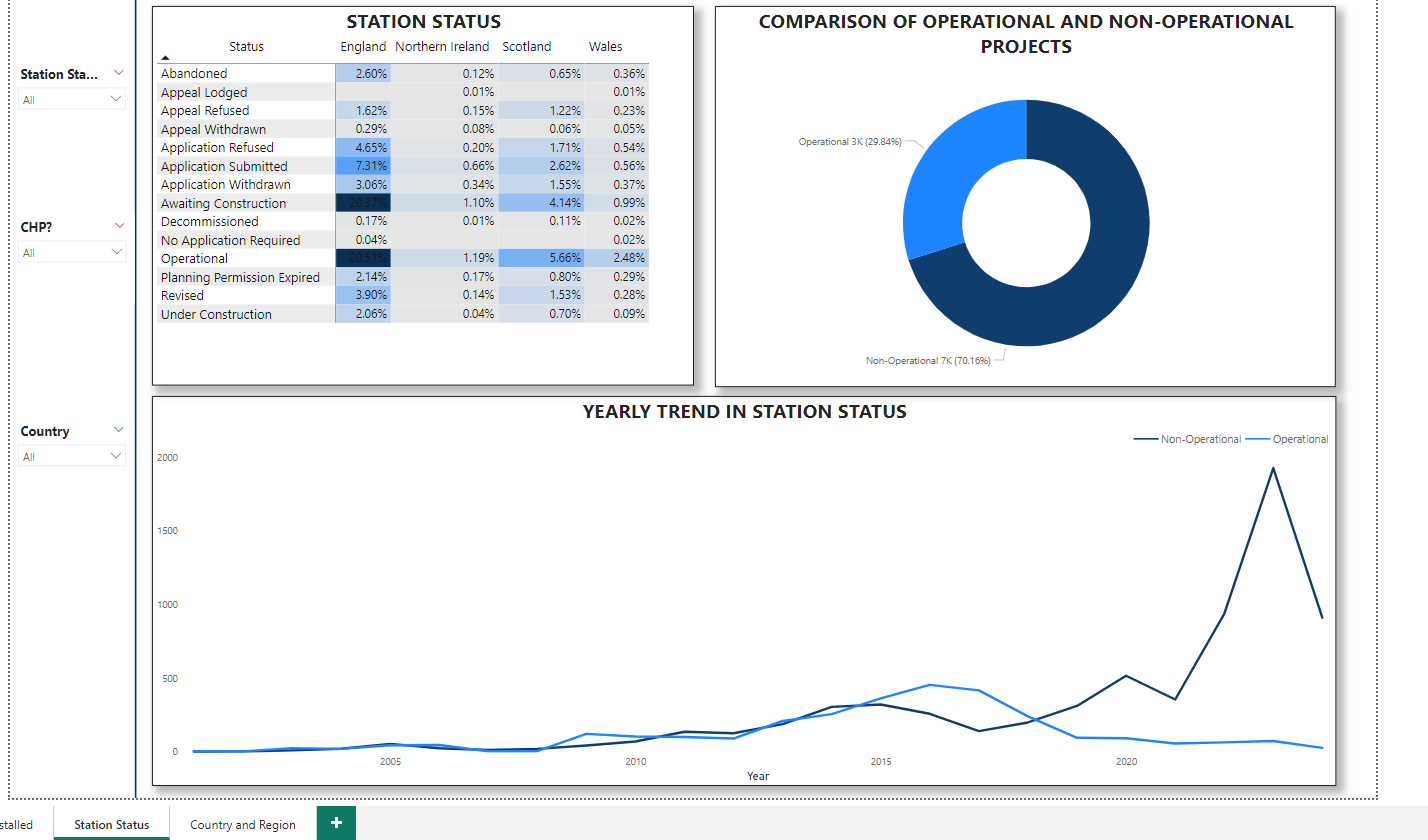

What the dashboard file says about the page in this screenshot:
{"tool":"powerbi","page":{"name":"Station Status","canvas":[1700,1000],"ordinal":1},"visuals":[{"type":"shape","box":[151.1,0,9,999.8],"z":0},{"type":"slicer","fields":{"Values":["RENEWABLE.CHP?"]},"box":[0,273.4,155.3,110.1],"z":1000},{"type":"slicer","fields":{"Values":["RENEWABLE.Station Status"]},"box":[0,83.6,153.9,98.2],"z":3000},{"type":"lineChart","title":"YEARLY TREND IN STATION STATUS","fields":{"Category":["RENEWABLE.Updated.Variation.Date Hierarchy.Year"],"Y":["RENEWABLE.Non-Operational Count","RENEWABLE.Operational Count"]},"box":[176.6,500,1472.6,485.1],"z":4000},{"type":"slicer","fields":{"Values":["RENEWABLE.Country"]},"box":[0,526.9,153.9,110.1],"z":5000},{"type":"pivotTable","title":"STATION STATUS","fields":{"Rows":["RENEWABLE.Status"],"Values":["RENEWABLE.Number of Projects"],"Columns":["RENEWABLE.Country"]},"box":[176.6,0,674.1,487.6],"z":6000},{"type":"donutChart","title":"COMPARISON OF OPERATIONAL AND NON-OPERATIONAL PROJECTS","fields":{"Y":["RENEWABLE.Non-Operational Count","RENEWABLE.Operational Count"]},"box":[876.9,0,772.4,488.8],"z":7000}]}

Visuals, with their boxes in screenshot pixels (x1, y1, x2, y2):
shape: {"x1": 132, "y1": 0, "x2": 139, "y2": 795}
slicer - RENEWABLE.CHP?: {"x1": 11, "y1": 215, "x2": 135, "y2": 303}
slicer - RENEWABLE.Station Status: {"x1": 11, "y1": 63, "x2": 134, "y2": 142}
"YEARLY TREND IN STATION STATUS" lineChart: {"x1": 152, "y1": 396, "x2": 1329, "y2": 783}
slicer - RENEWABLE.Country: {"x1": 11, "y1": 417, "x2": 134, "y2": 505}
"STATION STATUS" pivotTable: {"x1": 152, "y1": 0, "x2": 691, "y2": 386}
"COMPARISON OF OPERATIONAL AND NON-OPERATIONAL PROJECTS" donutChart: {"x1": 712, "y1": 0, "x2": 1329, "y2": 387}
